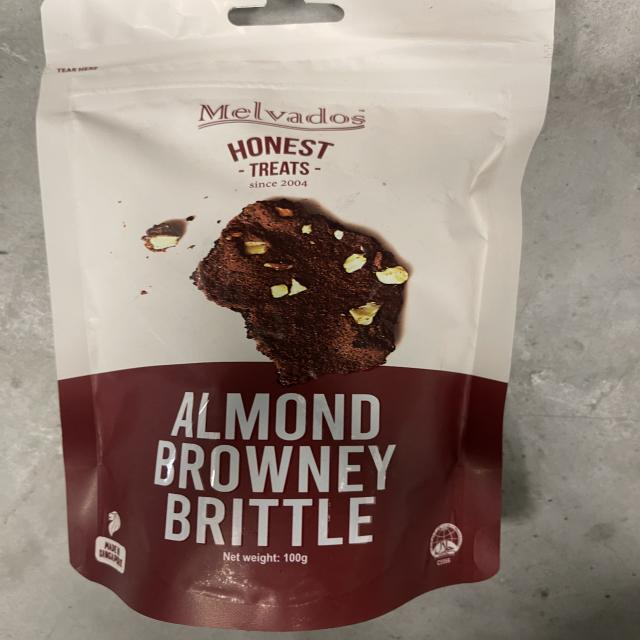object_name: (49, 7, 519, 593)
